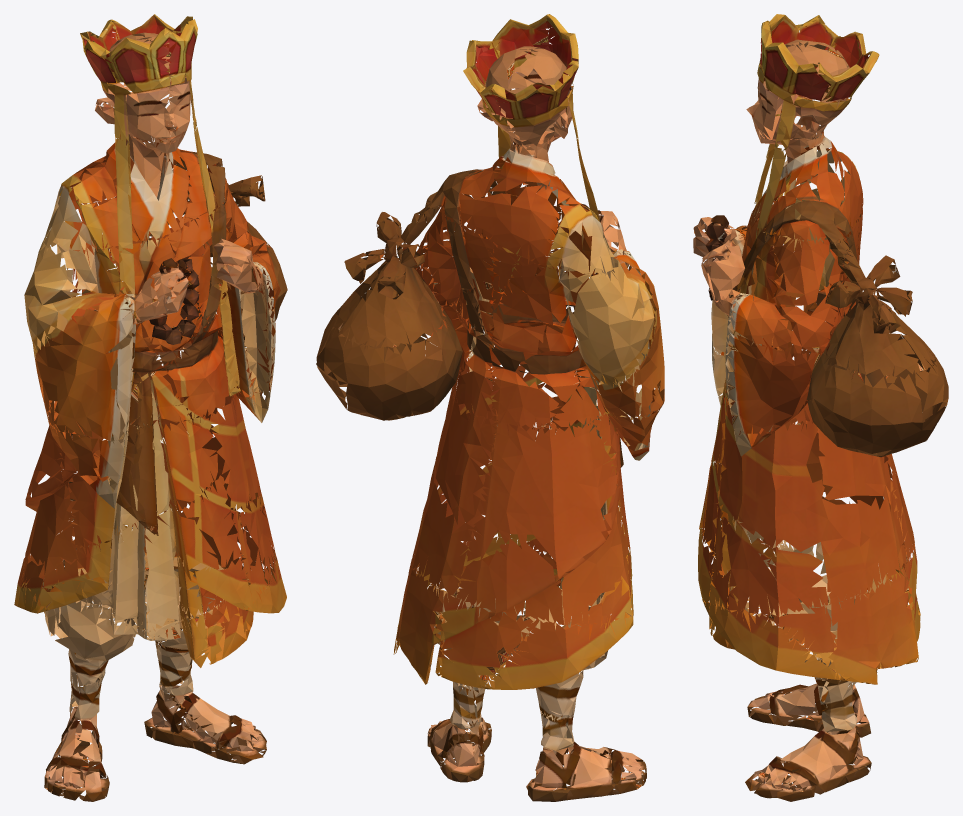
File: monk.glb
3 renders of one model, left to right at view 1: azimuth 30°, elevation 25°; view 2: azimuth 150°, elevation 25°; view 3: azimuth 270°, elevation 25°, orthographic. The views are drawn at different scales.
Visible parts, largest first — view 1: geometry_0; view 2: geometry_0; view 3: geometry_0.
Boxes of the visible parts, x1,y1,x2,y2 form: geometry_0: (14,14,287,801); geometry_0: (316,14,664,801); geometry_0: (693,14,948,801).
Bounding box in the file's own units: 0.5568 × 1.4 × 0.4438.
1 material, 1 textured.
